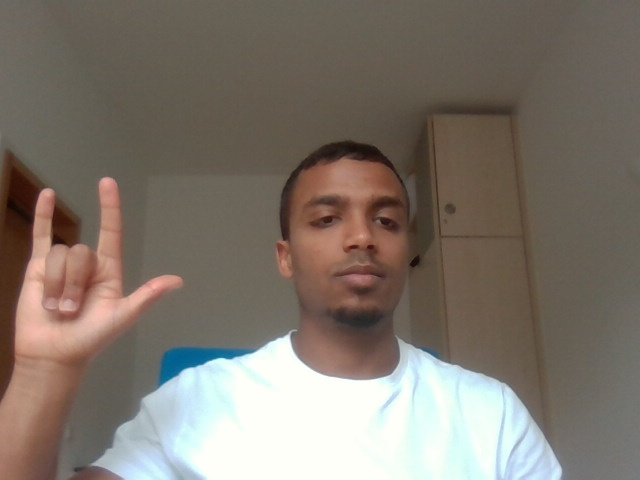absolutely: (14, 172, 195, 363)
